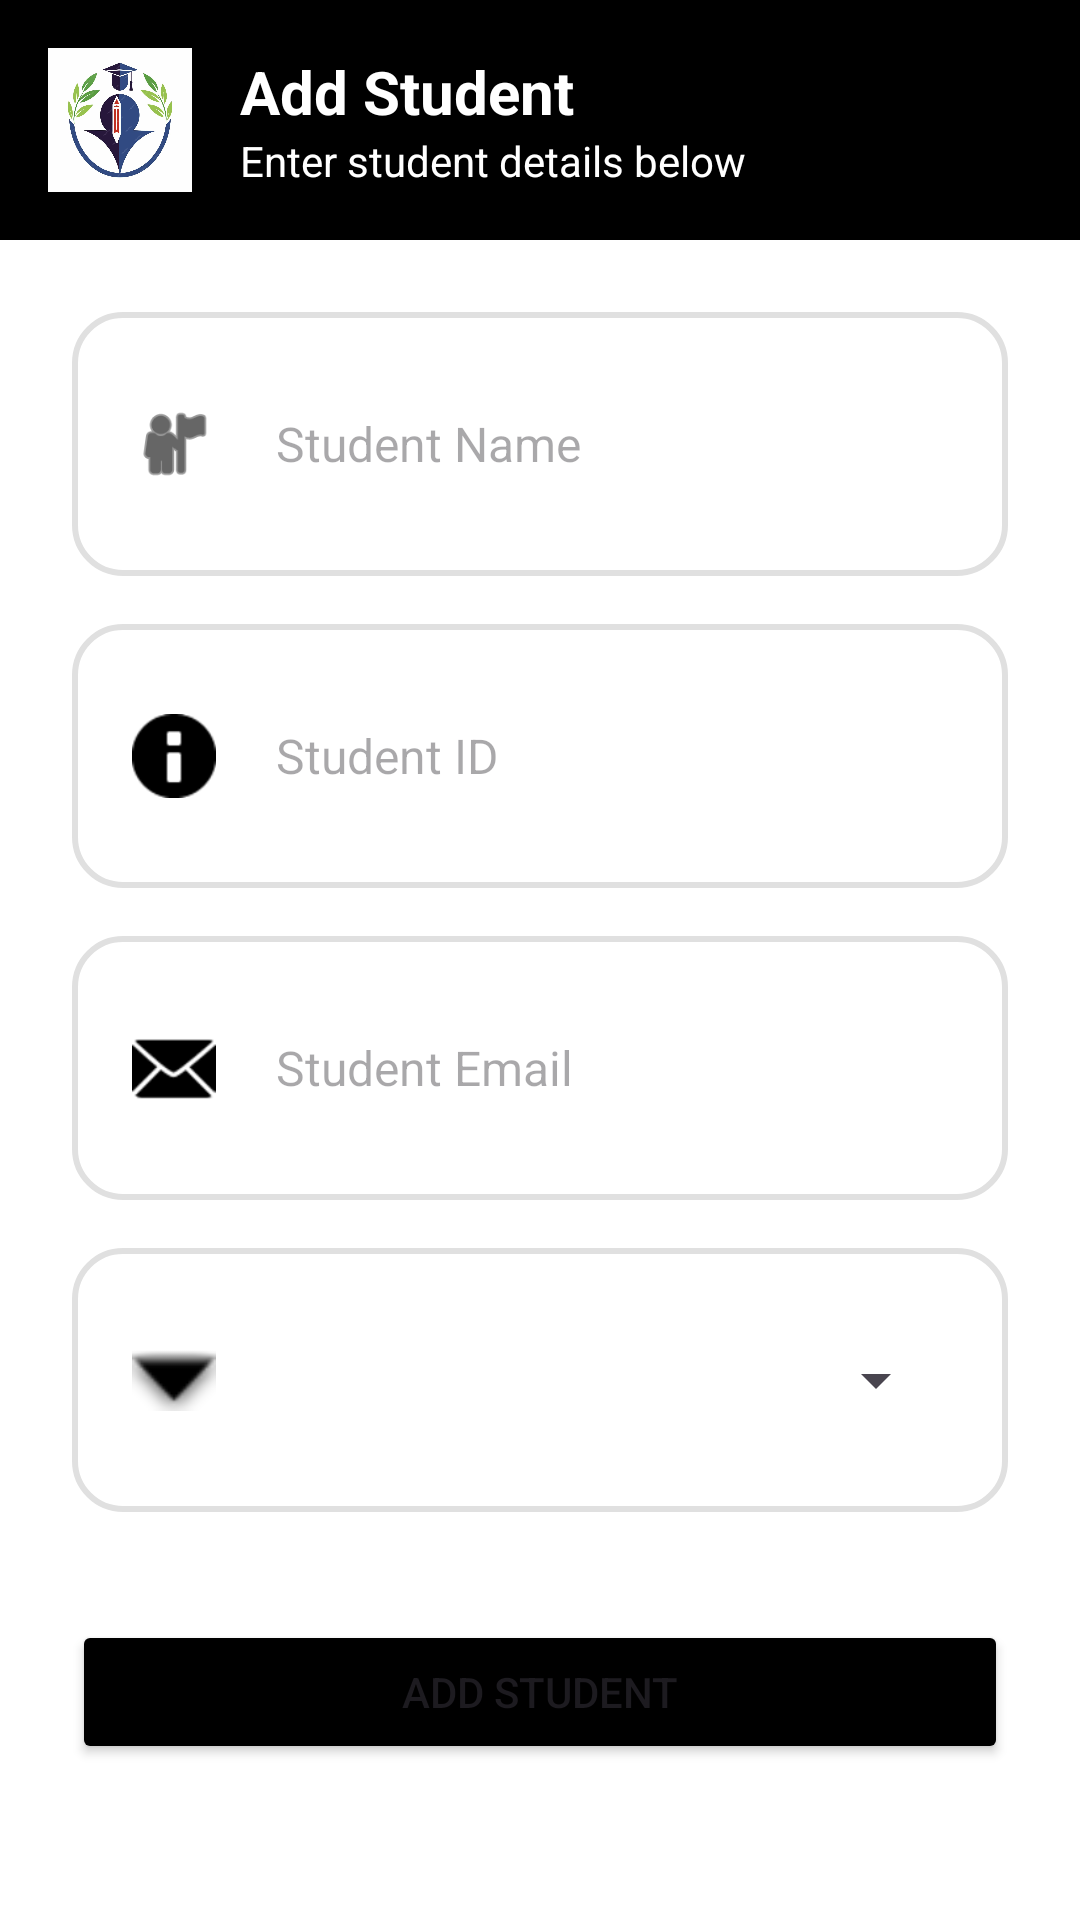

Named icons in this screenshot (1080px x 1920px) and their bounding boxes, (x1, y1, x2, y2):
arrow down float: (132, 1352, 216, 1409)
info: (132, 714, 216, 798)
